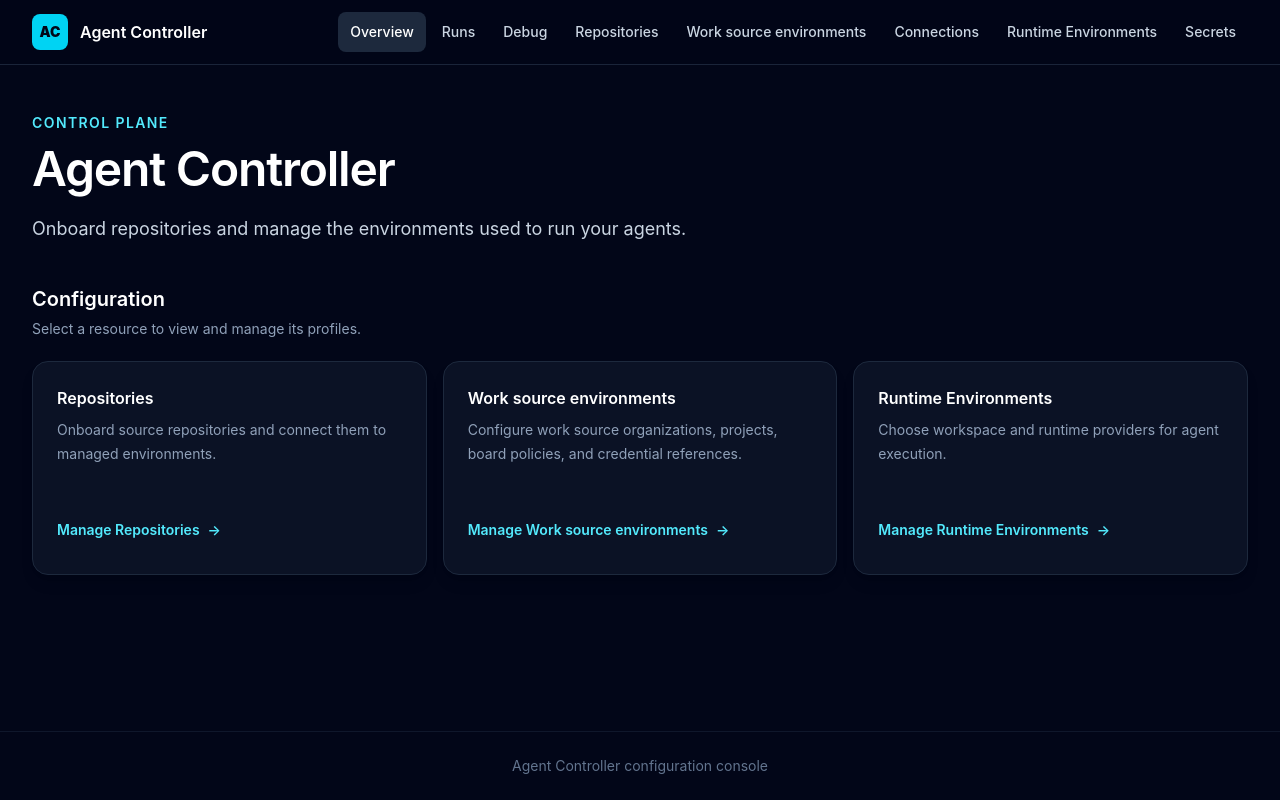
App shell › navigates to the runs dashboard and updates the document title
Click the link "Runs" at (459, 32), box [442,23,475,40]
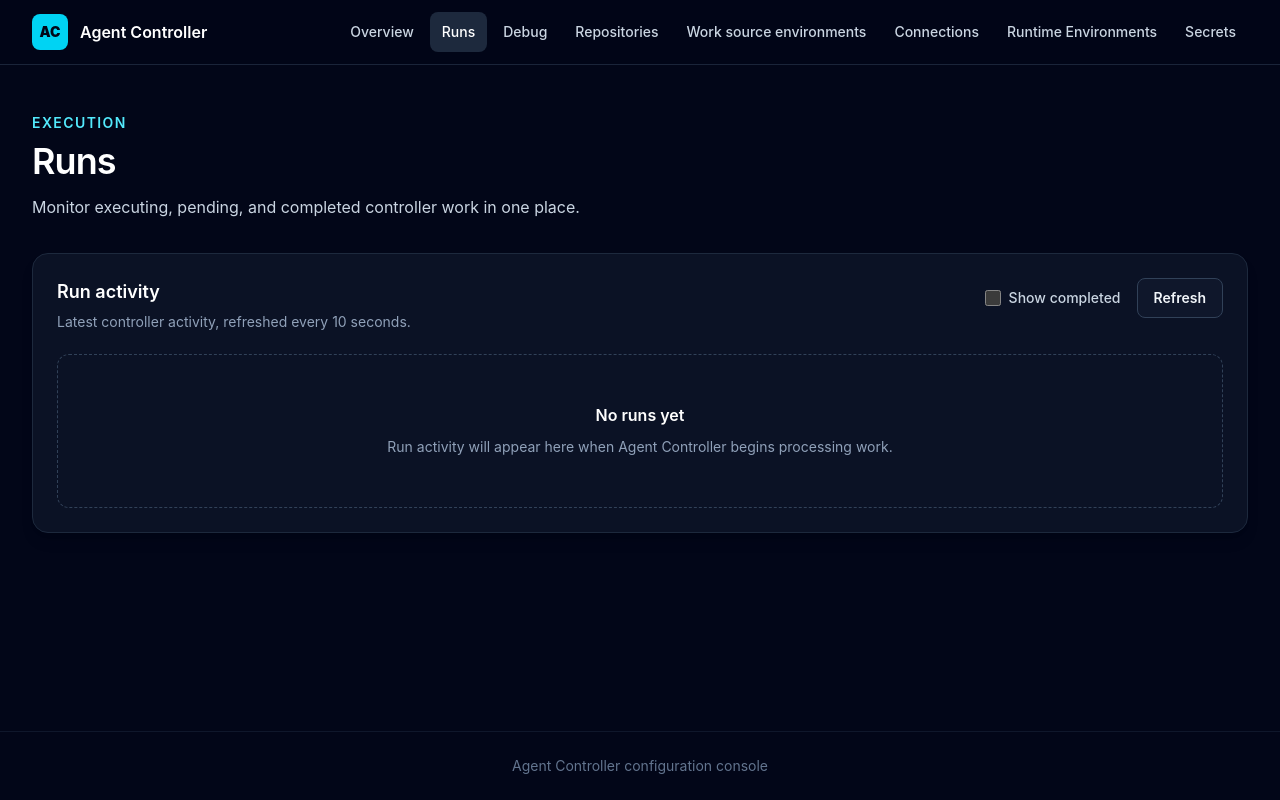
Now the heading "Runs" is shown, box [32,139,116,183]
Now the heading "No runs yet" is shown, box [596,405,684,425]
